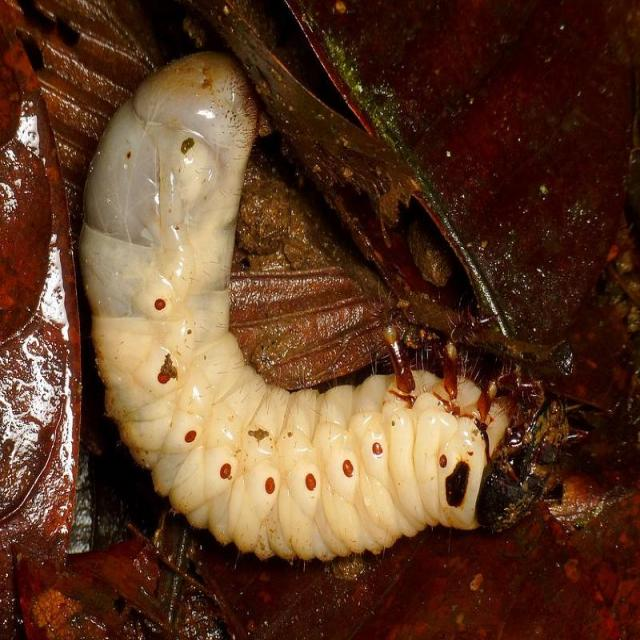Grub-Adult-: (64, 49, 550, 571)
